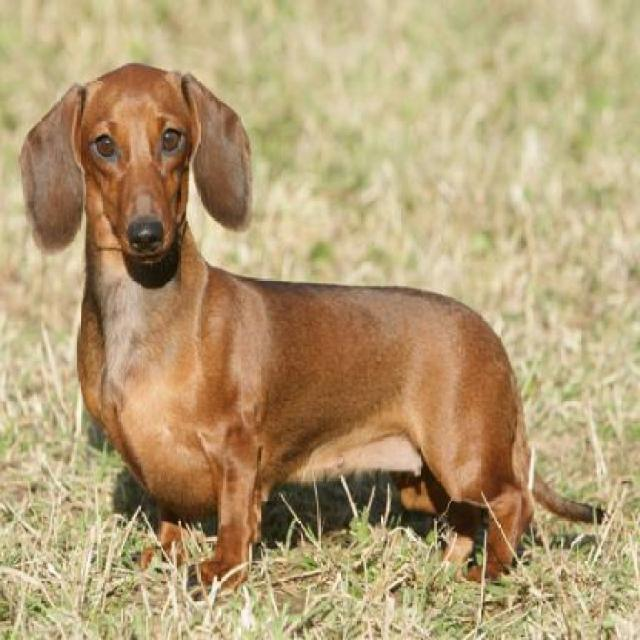Dog: (15, 57, 614, 598)
